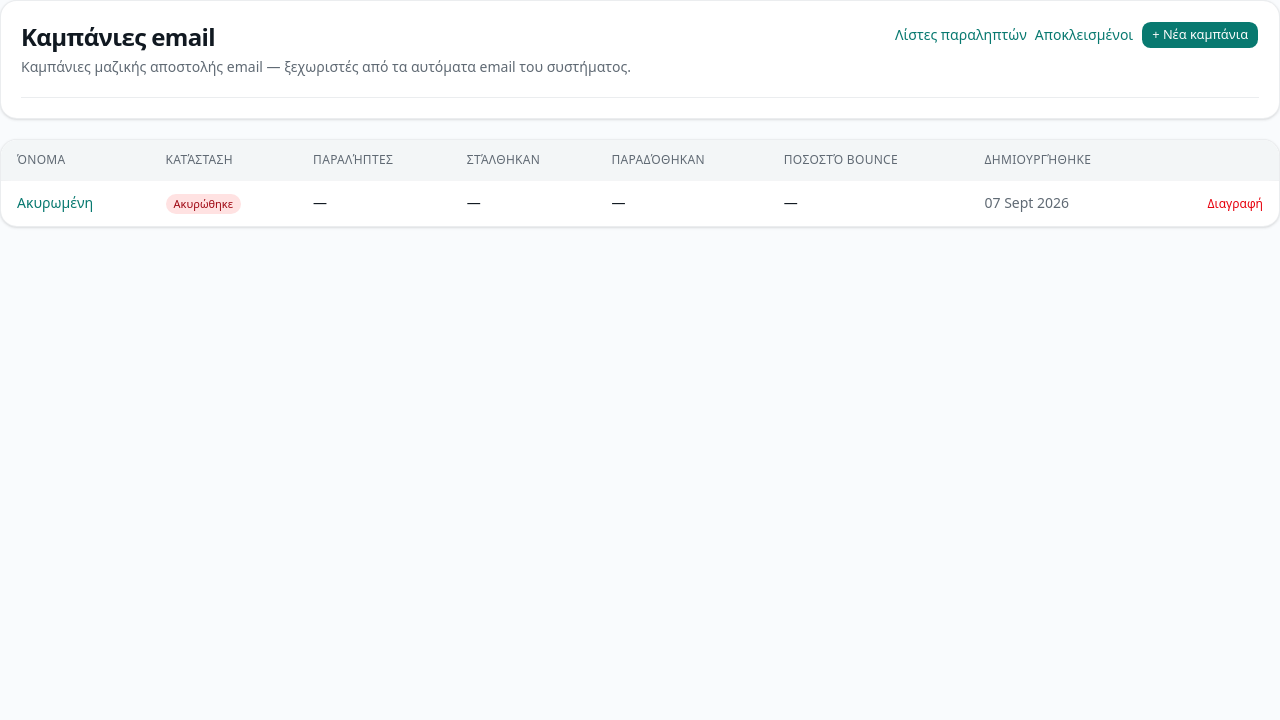
Scenario: CampaignsListPage — delete › explains the refusal when the campaign already sent
This screenshot has width=1280, height=720.
Click the button "Διαγραφή" at (1235, 204), box [1208, 196, 1263, 212]
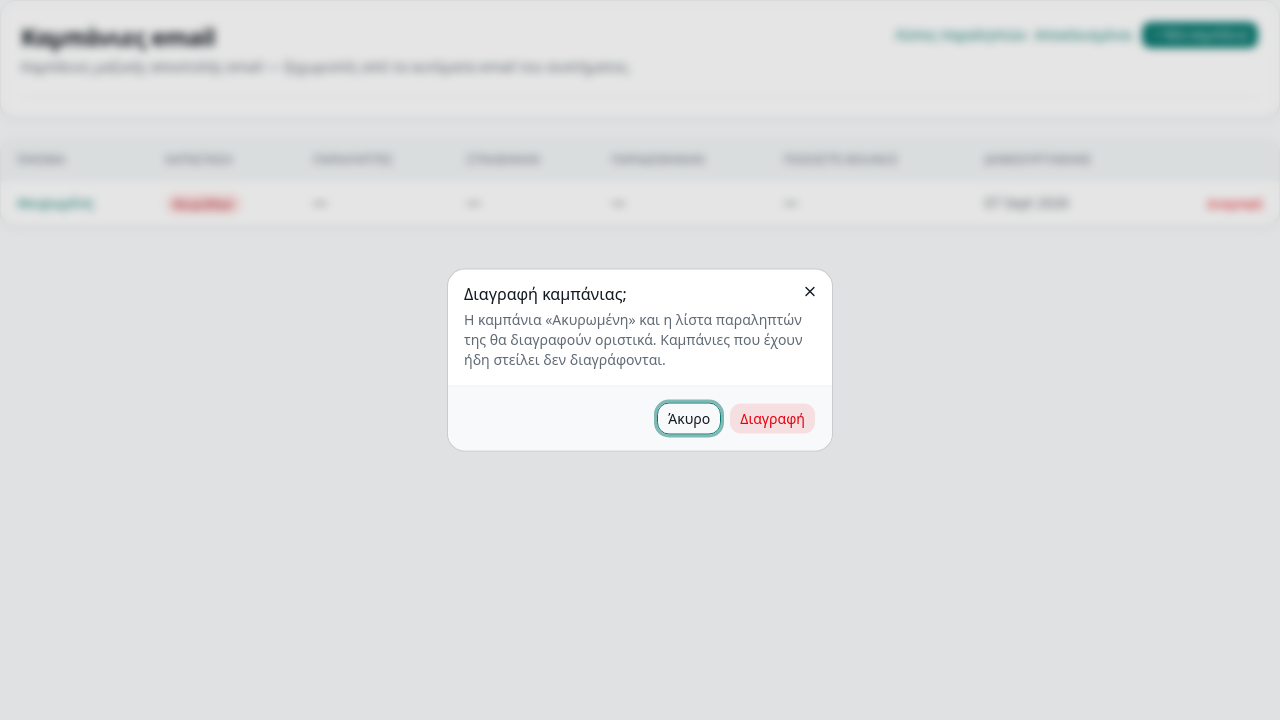
Click the button "Διαγραφή" at (773, 418), box [729, 402, 816, 434]
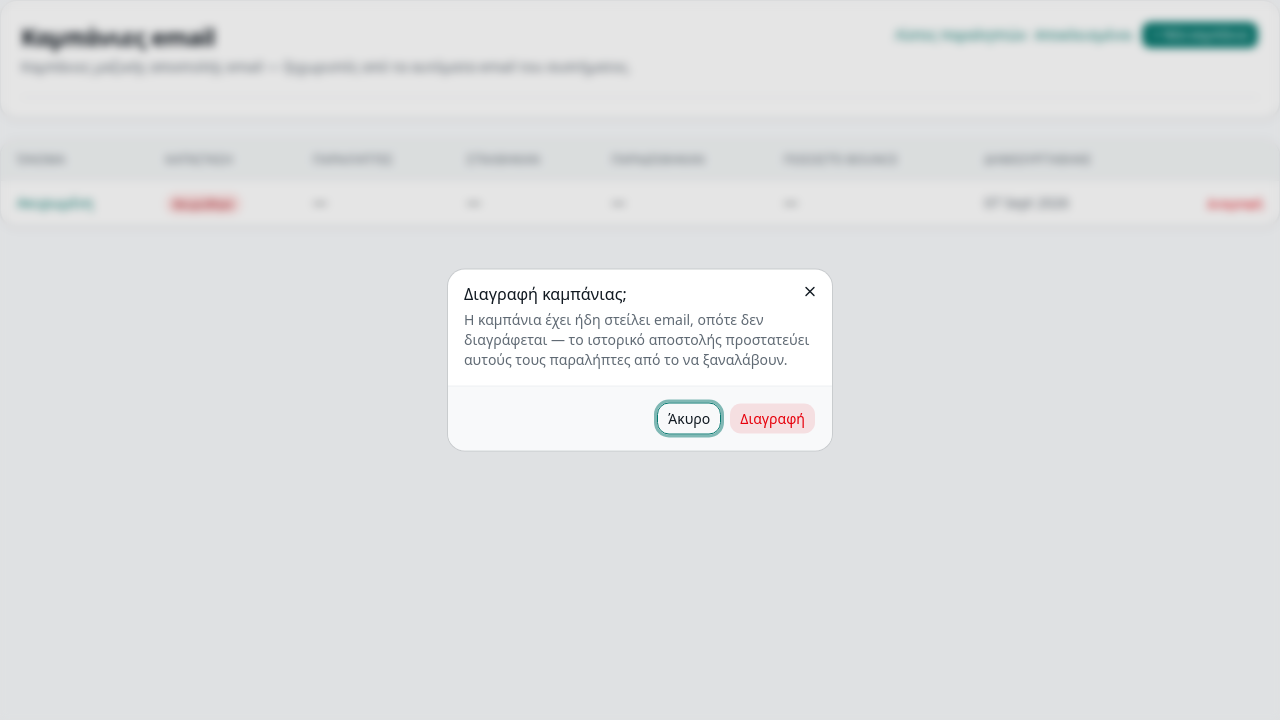
Check: the text "έχει ήδη στείλει email" is shown, box [464, 310, 809, 368]
